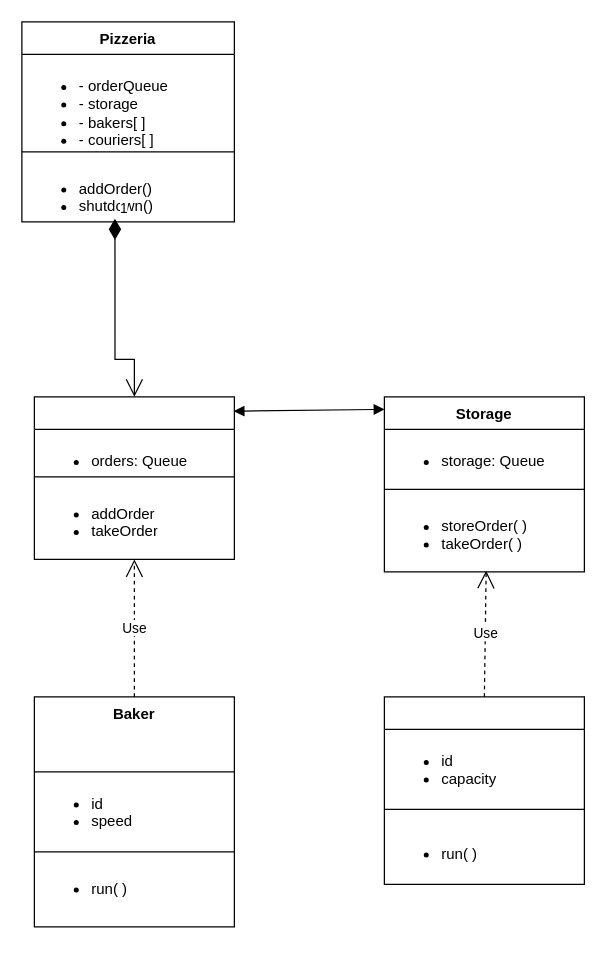
Image size: 606x953. Some labels were removed from this diagram. Here are the shapes that lost their labels. From the top down, the box of each, then its label:
(33, 396, 234, 559): OrderQueue
(383, 696, 584, 884): Courier
